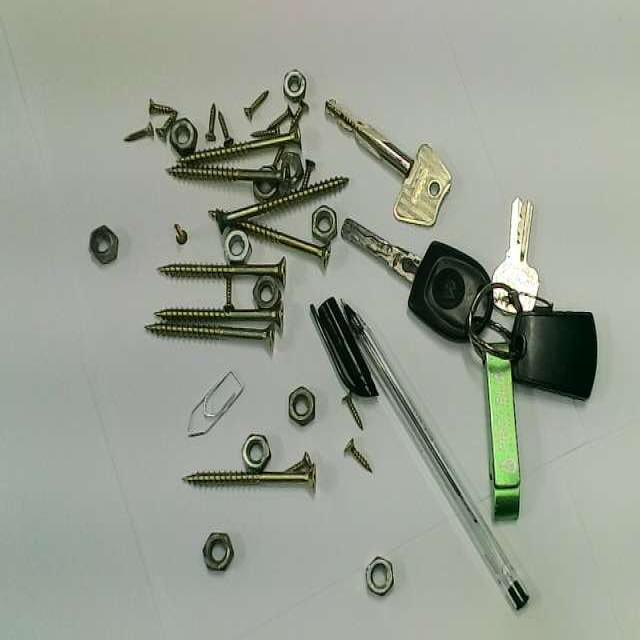Parafuso: (209, 176, 348, 230), (180, 130, 300, 166), (235, 223, 330, 266), (183, 463, 315, 491), (145, 323, 274, 351), (155, 303, 283, 330), (158, 258, 285, 285), (166, 166, 283, 185), (344, 439, 371, 473), (342, 392, 363, 429), (244, 90, 269, 120), (265, 107, 292, 130), (156, 111, 176, 141), (285, 452, 312, 473), (124, 123, 153, 141), (218, 112, 233, 146), (290, 102, 307, 130), (300, 159, 315, 189), (149, 99, 176, 114), (205, 103, 215, 141), (251, 127, 279, 138), (224, 278, 233, 310), (174, 224, 187, 245), (272, 147, 284, 169)
Porca: (203, 532, 233, 570), (242, 435, 270, 473), (366, 556, 393, 595), (278, 152, 303, 194), (89, 226, 117, 263), (170, 118, 197, 155), (289, 387, 314, 425), (253, 276, 280, 309), (312, 206, 336, 242), (224, 230, 250, 263), (283, 70, 305, 101), (253, 180, 278, 202)
